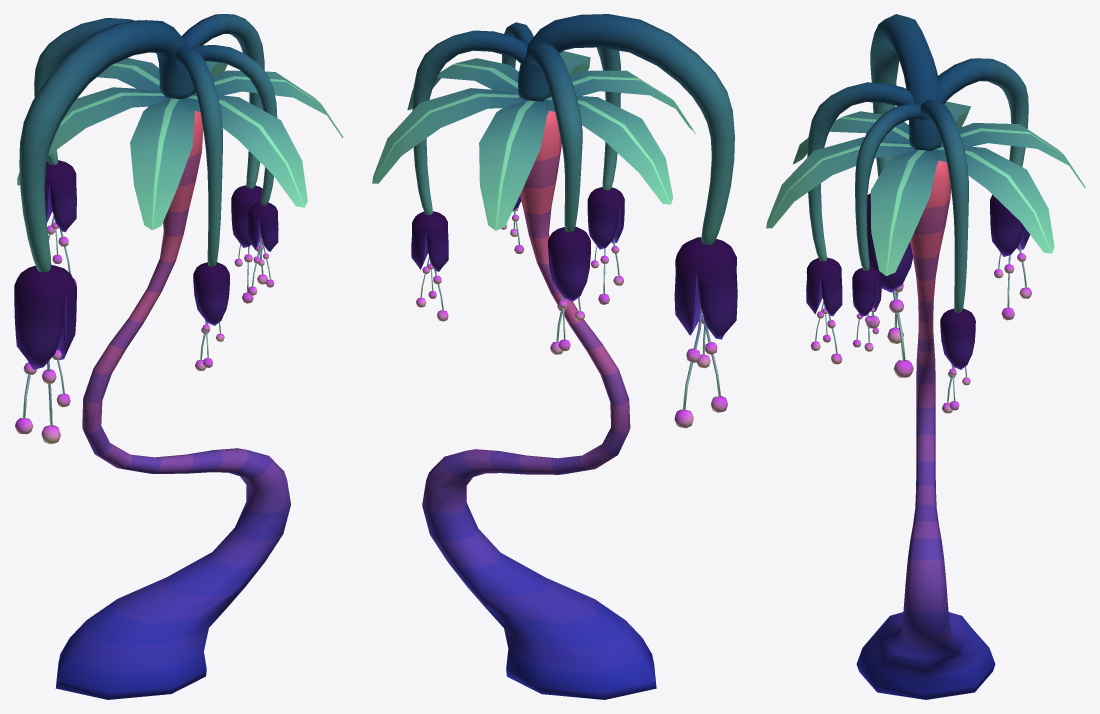
Rendered from anp_tree_6.fbx.
3 renders of one model, left to right at view 1: azimuth 30°, elevation 25°; view 2: azimuth 150°, elevation 25°; view 3: azimuth 270°, elevation 25°, orthographic. The views are drawn at different scales.
Parts seen in each view (by area): view 1: t6; view 2: t6; view 3: t6.
Part boxes in pixels (<box>): t6: <box>14,14,343,699</box>; t6: <box>372,14,737,699</box>; t6: <box>766,14,1085,699</box>.
Size of the model in its own units: 234 by 453 by 206.
